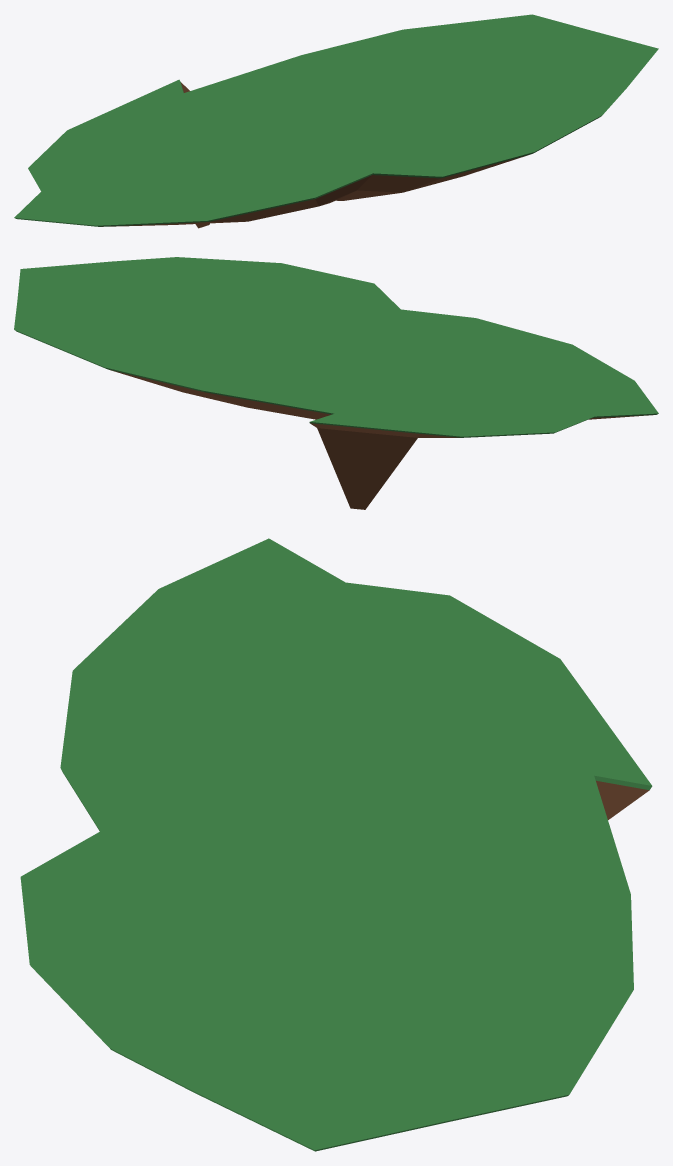
File: small island 3.glb
3 renders of one model, top to bottom at view 1: azimuth 30°, elevation 25°; view 2: azimuth 150°, elevation 25°; view 3: azimuth 270°, elevation 25°, orthographic. The views are drawn at different scales.
Visible parts, largest first — view 1: Vert.001, Vert; view 2: Vert.001, Vert; view 3: Vert.001, Vert.
Boxes of the visible parts, <box> form: Vert.001: <box>14,14,658,226</box>; Vert: <box>102,82,529,228</box>; Vert.001: <box>14,257,658,437</box>; Vert: <box>110,370,652,509</box>; Vert.001: <box>20,538,652,1151</box>; Vert: <box>596,780,649,819</box>.
Bounding box in the file's own units: 7.77 × 1.31 × 3.39.
